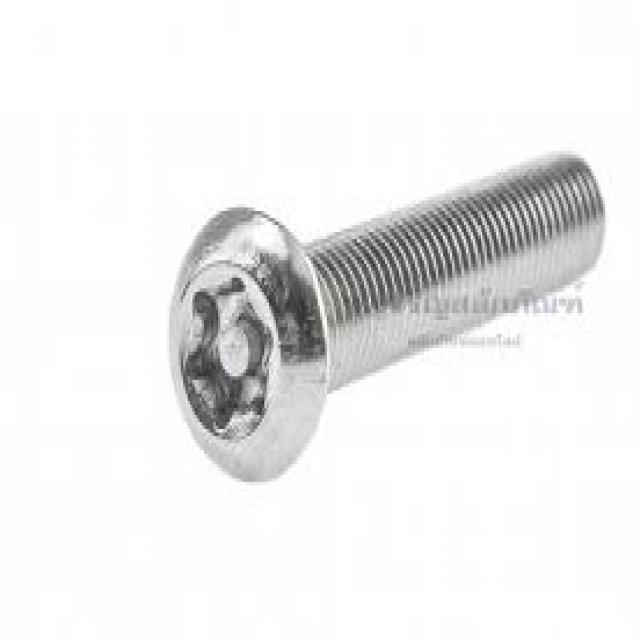Screw: (165, 151, 608, 485)
